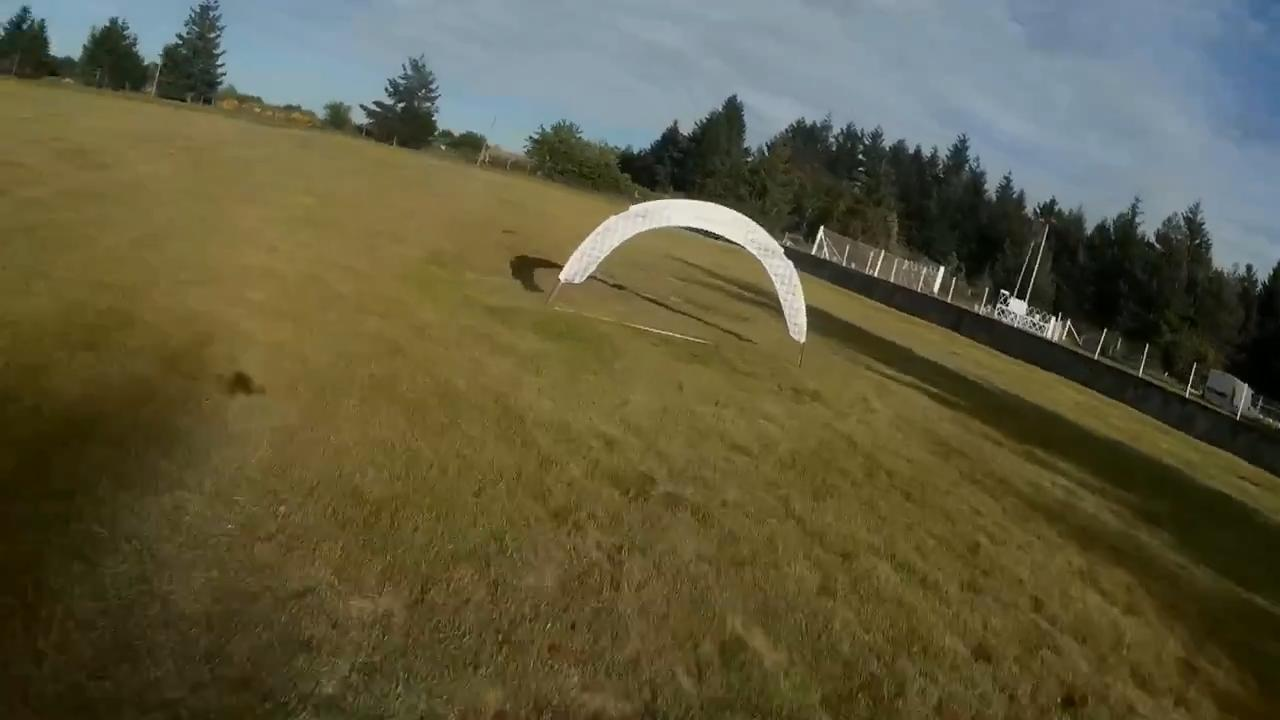gate: (561, 197, 809, 342)
